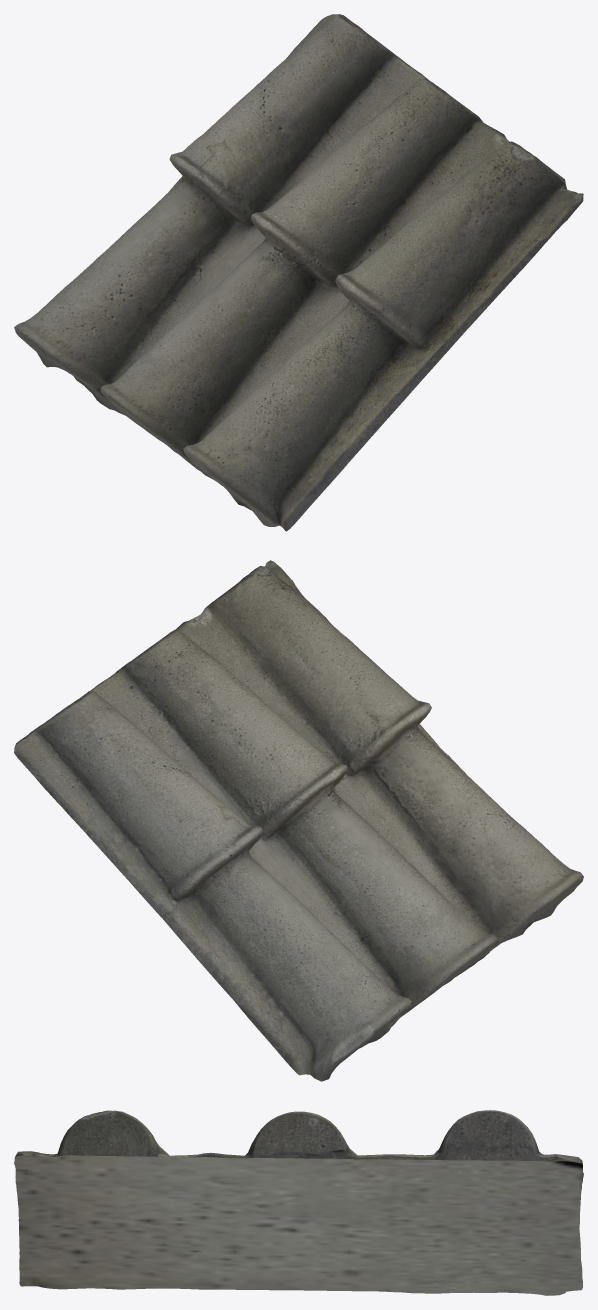
File: Retopo_3DModel_mesh.027.glb
The picture shows the model from 3 angles, top to bottom: view 1: azimuth 30°, elevation 25°; view 2: azimuth 150°, elevation 25°; view 3: azimuth 270°, elevation 25°; orthographic projection. The views are drawn at different scales.
Parts seen in each view (by area): view 1: Retopo_3DModel_mesh.027; view 2: Retopo_3DModel_mesh.027; view 3: Retopo_3DModel_mesh.027.
Boxes of the visible parts, box(x1,y1,x2,y2) form: Retopo_3DModel_mesh.027: box(14, 14, 583, 531); Retopo_3DModel_mesh.027: box(14, 560, 583, 1081); Retopo_3DModel_mesh.027: box(14, 1110, 583, 1295).
Bounding box in the file's own units: 3.32 × 2.69 × 4.19.
Materials: 1 (1 with a texture image).
